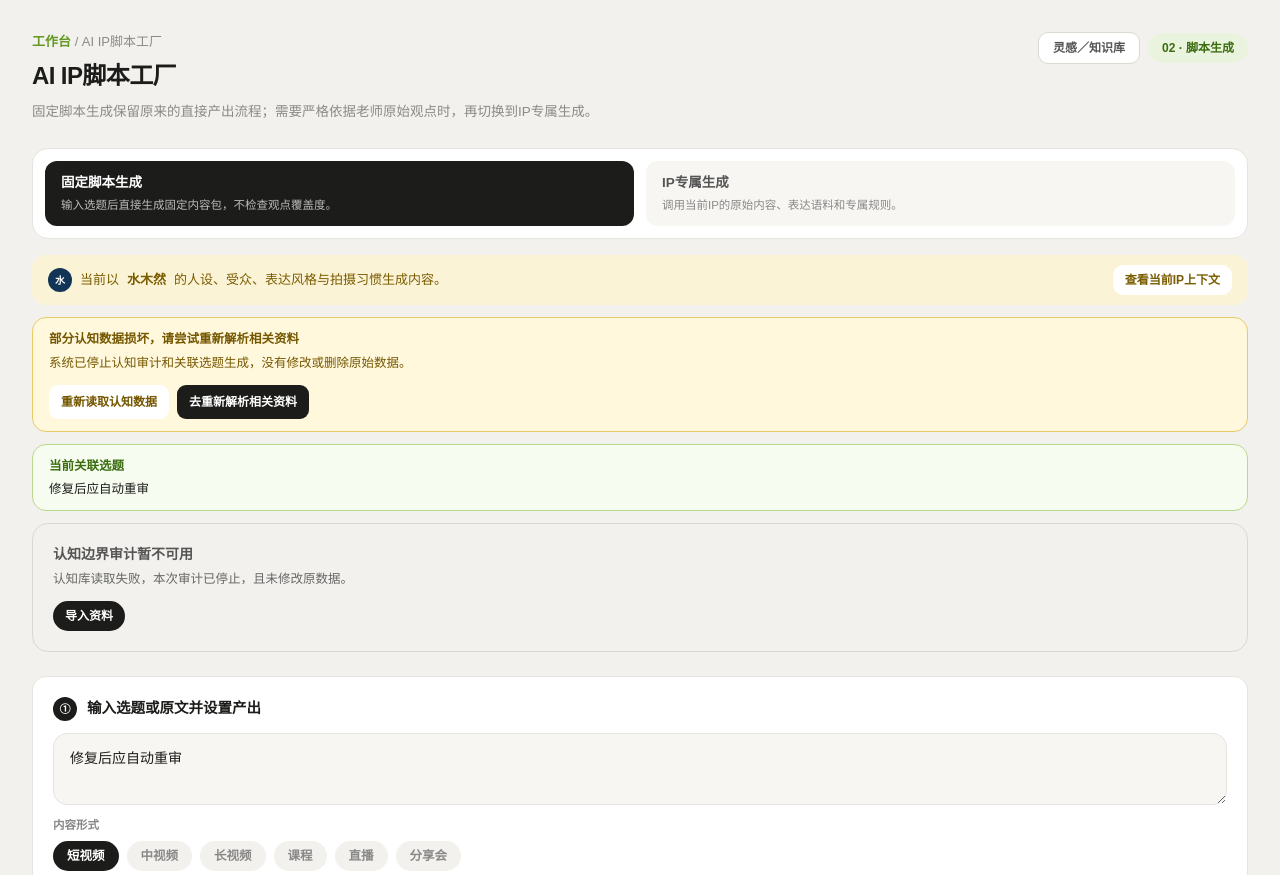
Test: 修复损坏认知后点击重新读取会自动重新审计
The image size is (1280, 875).
Expected: the text "部分认知数据损坏，请尝试重新解析相关资料" is shown, [49,332,299,346]
Click the button "重新读取认知数据": (109,402) [49,385,169,419]
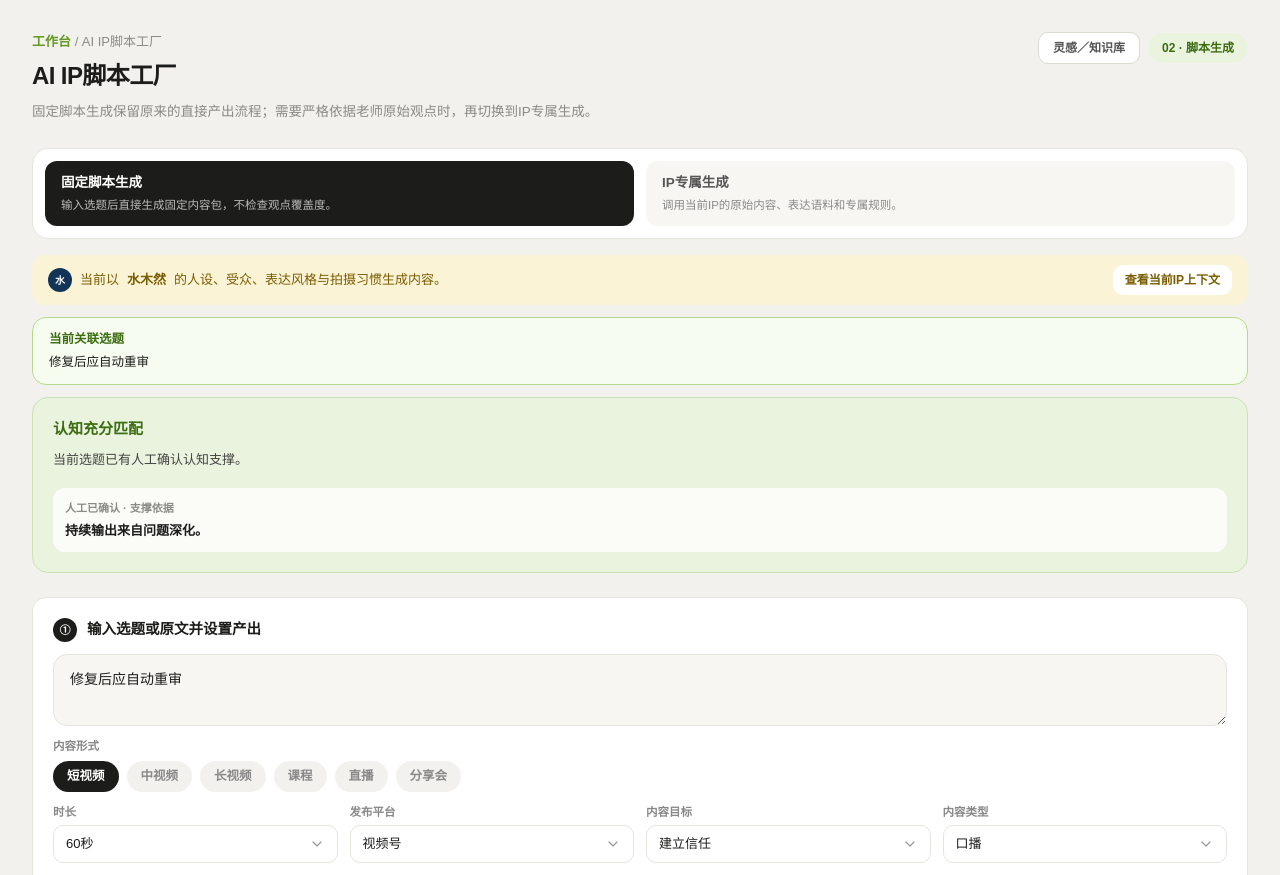
Now the text "认知充分匹配" is shown, box [53,420,143,436]
